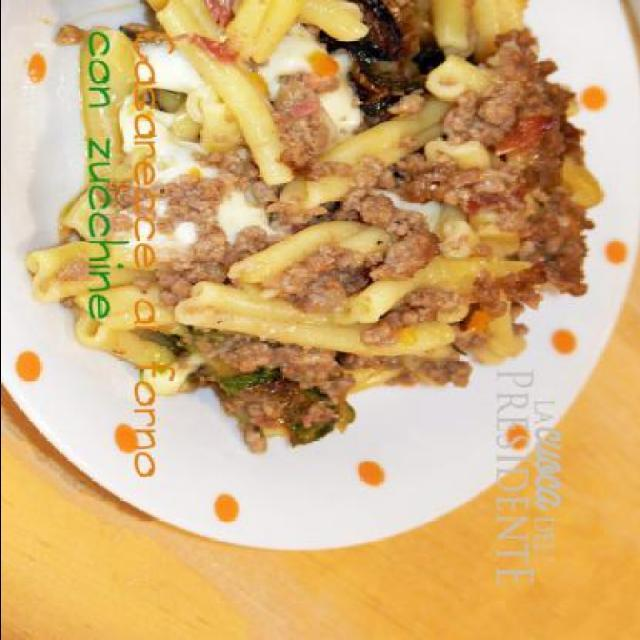Pasta al ragu: (176, 5, 608, 492)
